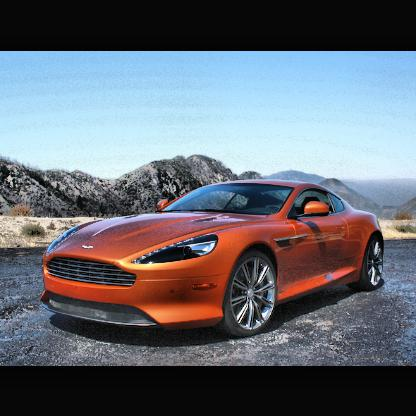Aston Martin Virage Coupe 2012: (43, 175, 388, 344)
